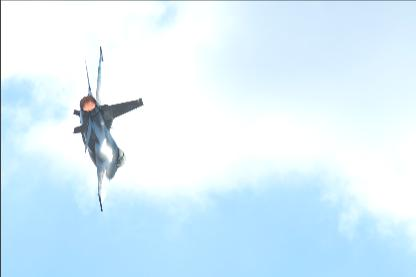F14: (71, 45, 142, 211)
